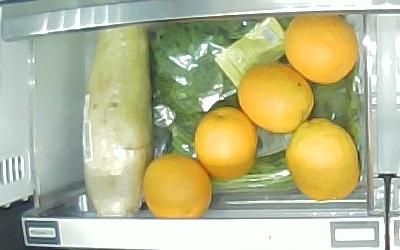orange: (286, 119, 360, 200), (238, 64, 314, 133), (285, 14, 357, 84), (195, 107, 258, 179), (144, 155, 211, 217)
